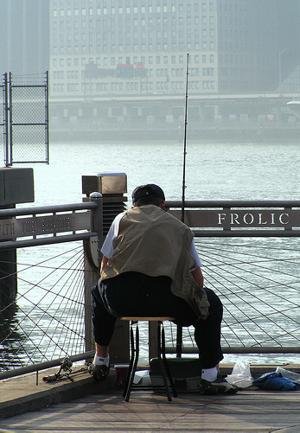person: (91, 183, 227, 386)
